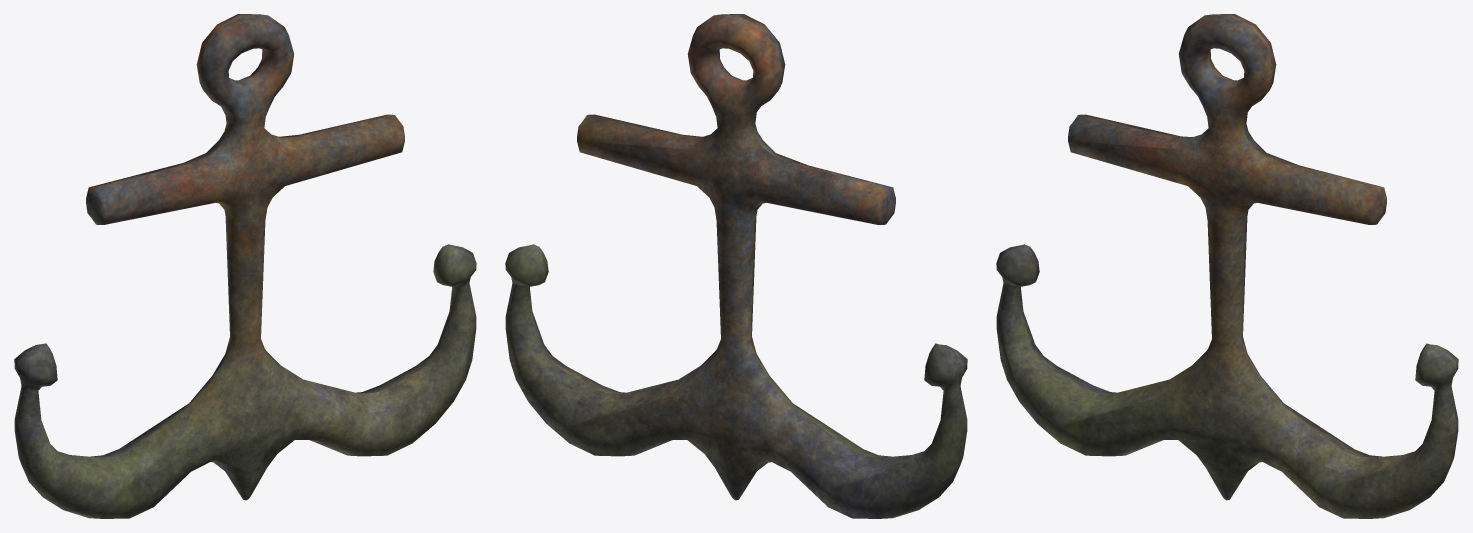
Rendered from Anchor.fbx.
3 renders of one model, left to right at view 1: azimuth 30°, elevation 25°; view 2: azimuth 150°, elevation 25°; view 3: azimuth 330°, elevation 25°, orthographic.
Visible parts, largest first — view 1: Anchor; view 2: Anchor; view 3: Anchor.
Part boxes in pixels (x1,y1,x2,y2): Anchor: (14,14,476,518); Anchor: (505,14,967,518); Anchor: (996,14,1458,518).
Bounding box in the file's own units: 2.68 × 2.71 × 0.3569.
Materials: 1 (1 with a texture image).
